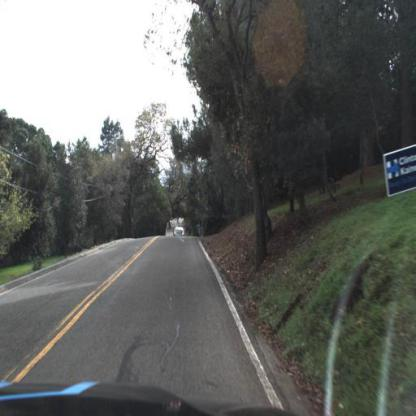car: (172, 224, 188, 240)
